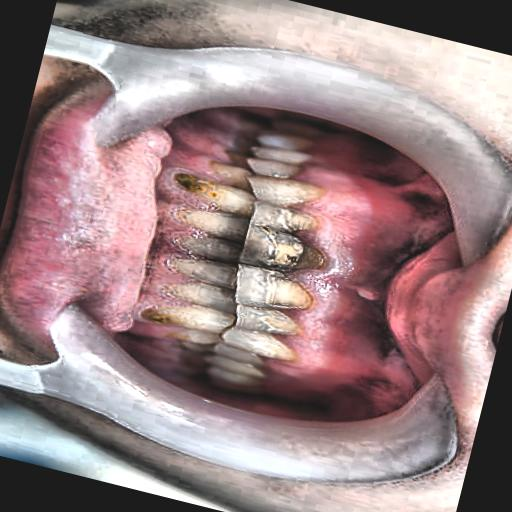Calculus: (135, 168, 354, 389)
